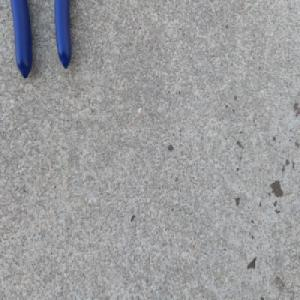Pliers: (9, 0, 73, 82)
